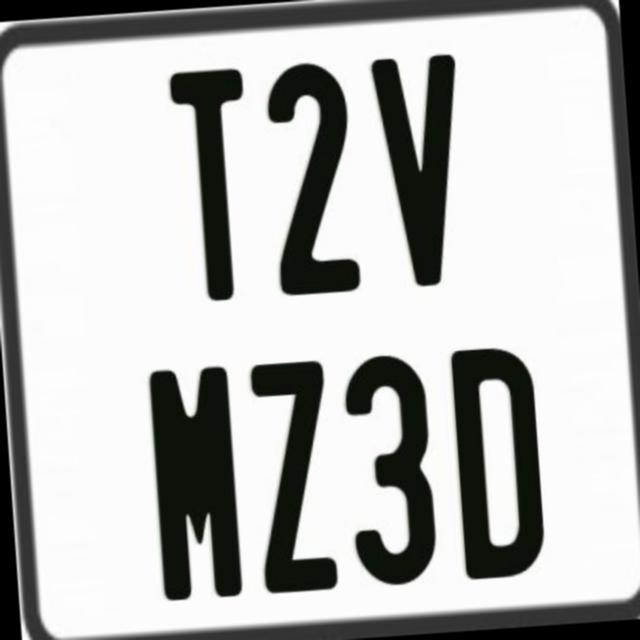2: (262, 59, 366, 296)
3: (338, 353, 436, 590)
D: (449, 342, 547, 581)
M: (146, 360, 240, 606)
T: (168, 64, 260, 308)
V: (366, 49, 468, 284)
Z: (246, 356, 336, 596)
